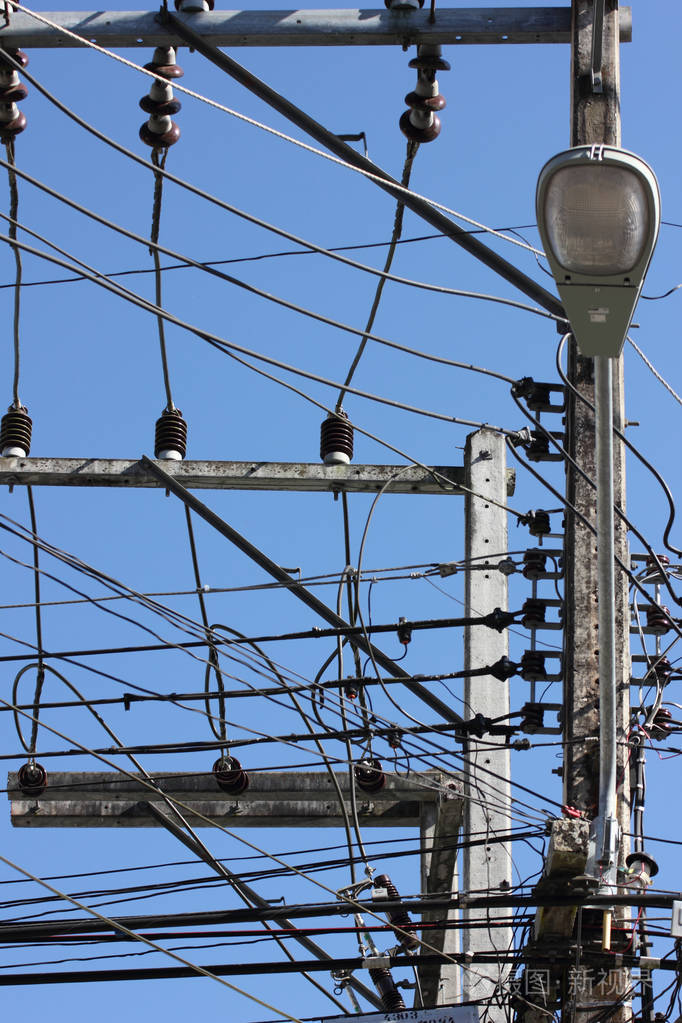insulator: (402, 55, 453, 141), (140, 61, 181, 150), (1, 50, 31, 138)
